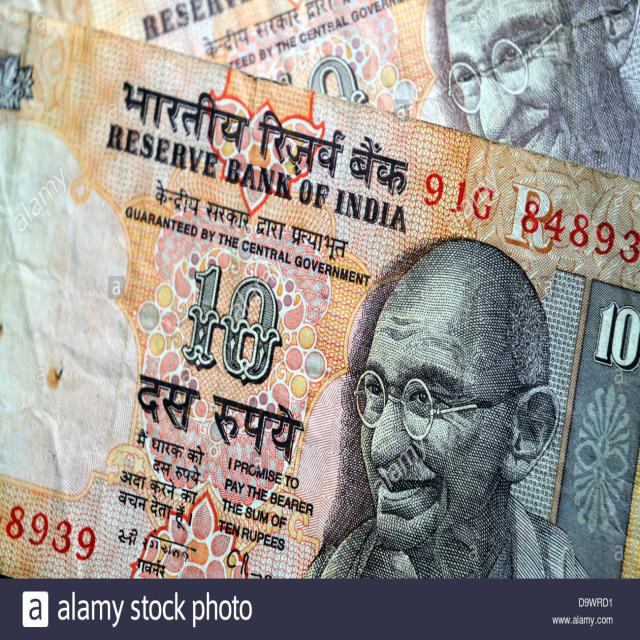10IndianRupees: (0, 78, 635, 577)
